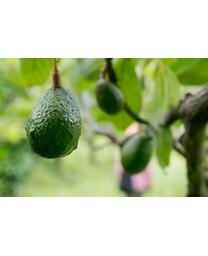avocado: (24, 86, 82, 160)
